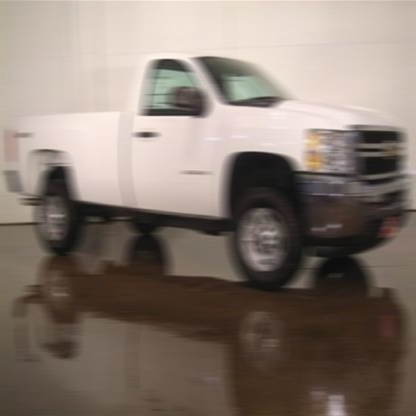Vehicle: (8, 68, 409, 293)
